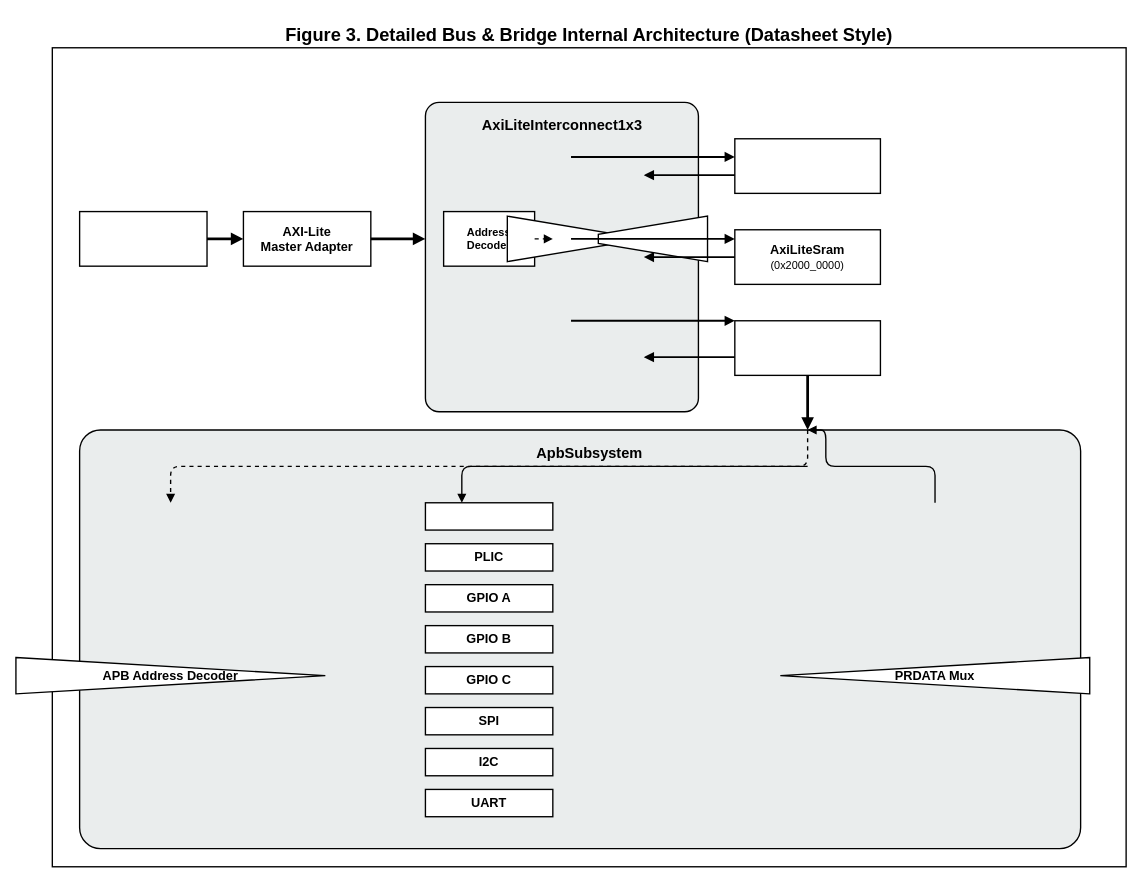
Some shapes in this 1143 by 883 pixel diagram are drawn without their labels. Each missing label, with the box of its shape:
AW, W, AR Demux: (506, 215, 617, 262)
AxiLiteRom (0x0000_0000): (734, 138, 881, 194)
AxiLiteToApbBridge (0x4000_0000): (734, 320, 881, 376)
B, R Mux: (597, 215, 708, 262)
Core DBus Master: (79, 210, 207, 266)
Timer: (424, 502, 553, 530)
